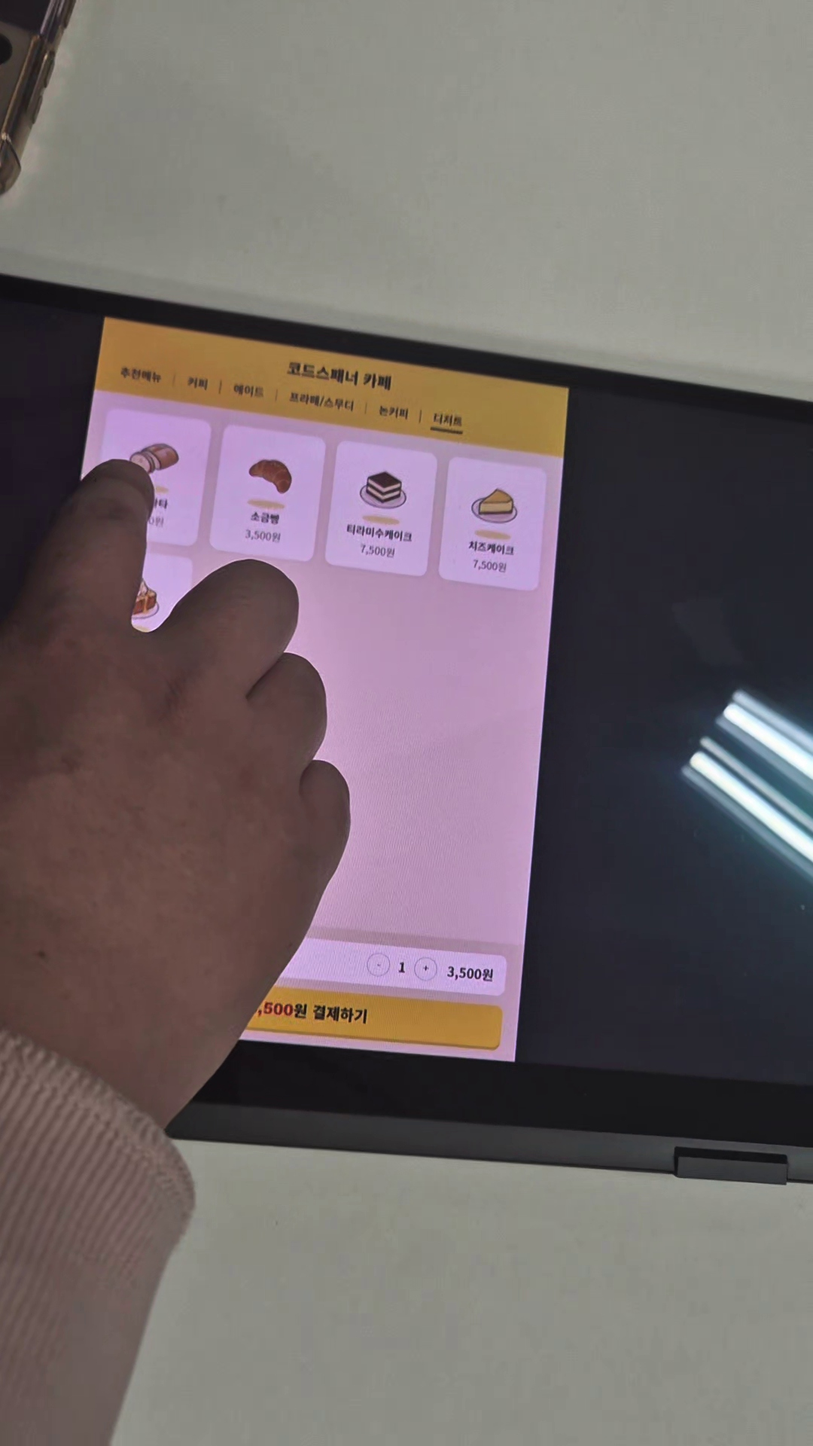category_tab: (289, 390, 356, 412), (119, 364, 163, 384), (432, 410, 464, 428), (233, 382, 266, 399), (378, 405, 408, 422), (187, 375, 211, 389)
menu_back: (96, 407, 211, 544), (210, 425, 327, 558), (325, 440, 435, 578), (442, 457, 544, 591)
menu_name: (343, 521, 414, 543), (467, 539, 517, 557), (249, 512, 281, 526)
menu_price: (359, 543, 397, 561), (244, 528, 283, 545), (471, 559, 508, 573)
